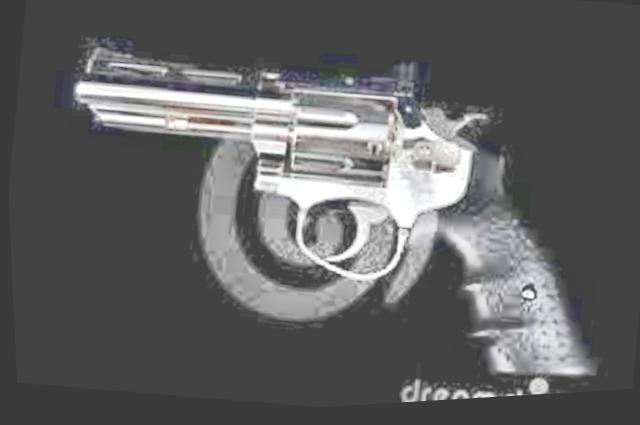pistol: (32, 14, 637, 416)
